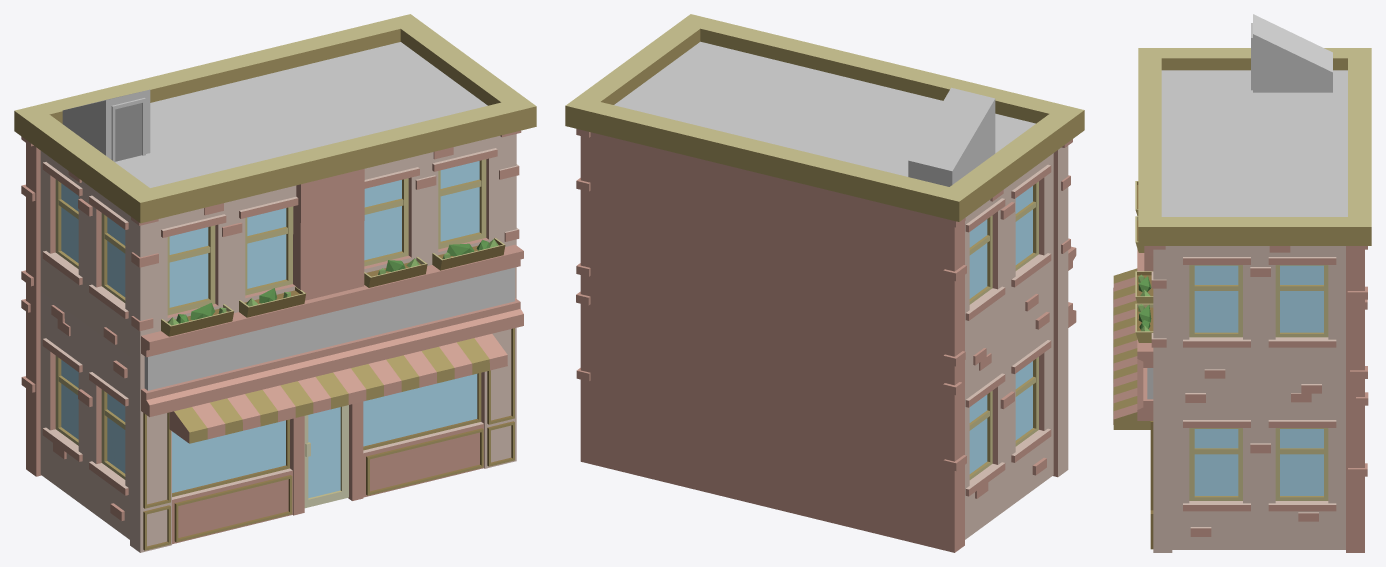
Rendered from house_small_2_004.fbx.
3 renders of one model, left to right at view 1: azimuth 30°, elevation 25°; view 2: azimuth 150°, elevation 25°; view 3: azimuth 270°, elevation 25°, orthographic. The views are drawn at different scales.
Parts seen in each view (by area): view 1: house_small_2_004; view 2: house_small_2_004; view 3: house_small_2_004.
Part boxes in pixels (x1=…): house_small_2_004: x1=14, y1=14, x2=536, y2=552; house_small_2_004: x1=565, y1=14, x2=1084, y2=552; house_small_2_004: x1=1113, y1=14, x2=1371, y2=552.
Bounding box in the file's own units: 724 × 713 × 441.
